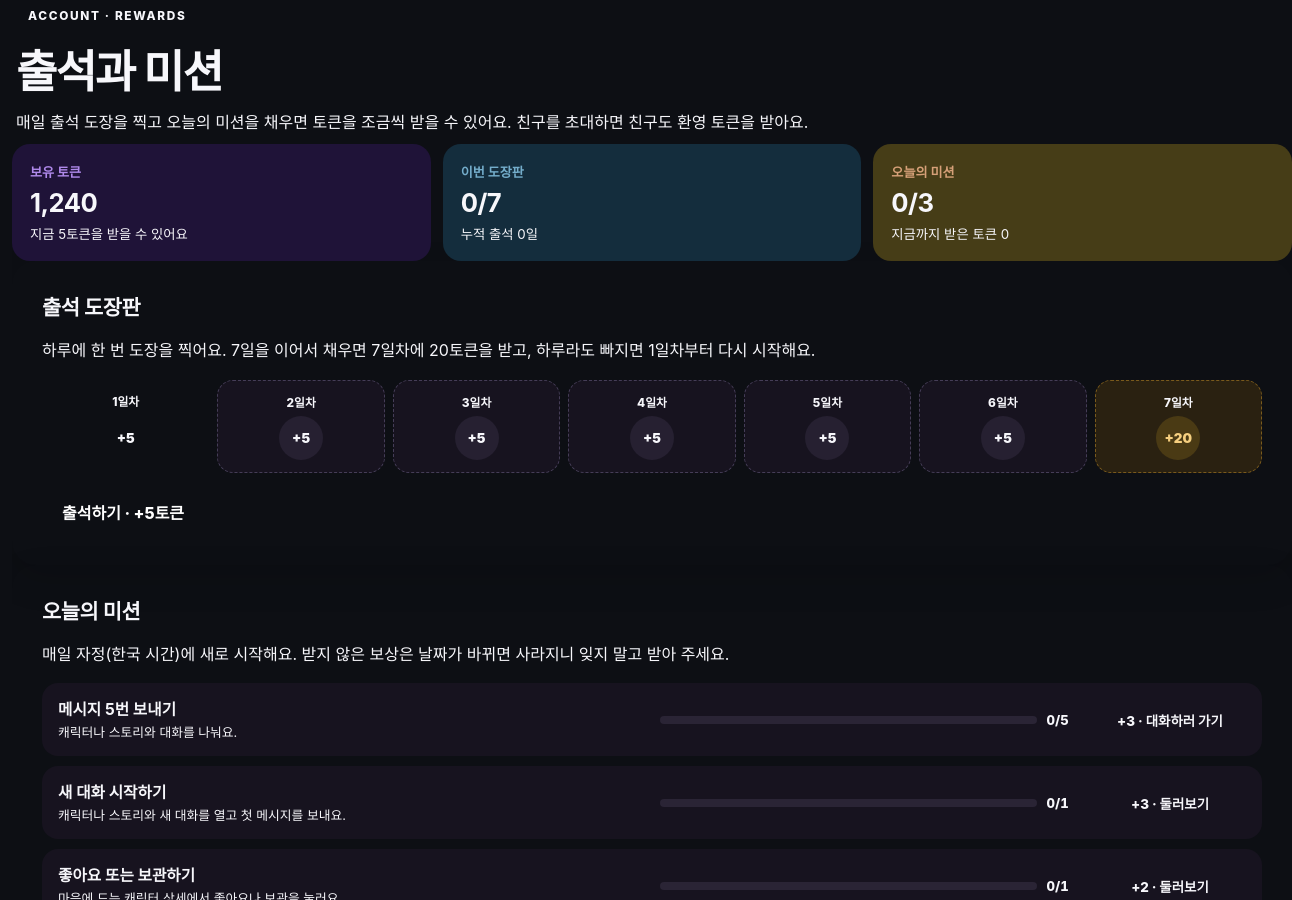
it: 출석과 미션 화면 › 출석하기를 누르면 도장이 찍히고 토큰과 받은 기록이 늘며 하루에 한 번만 받는다
The width and height of the screenshot is (1292, 900).
Expected: the list item with aria-label "1일차, 5토큰, 오늘 찍을 칸" is shown, [112,395,139,446]
Expected: the list item with aria-label "7일차, 20토큰, 아직" is shown, [1095,380,1262,473]
Click the button "출석하기 · +5토큰" at (123, 512), box [42,489,204,535]
(page scrolled)
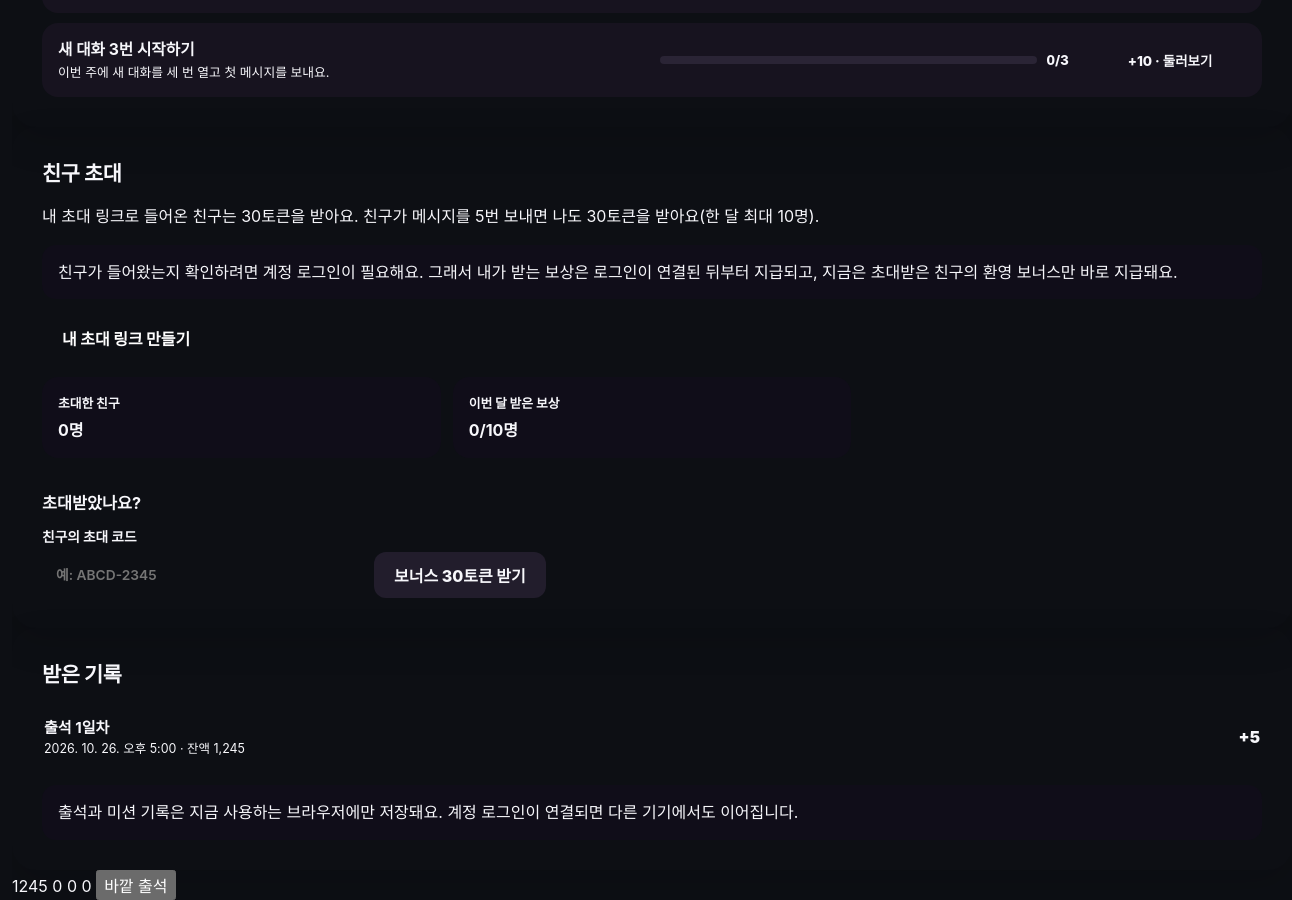
Expected: the text "+5" is shown, [1239,727,1260,747]
Now the text named "잔액" reads "1245", box [12,876,48,896]
Now the text "출석 1일차" is shown, box [44,718,109,738]
